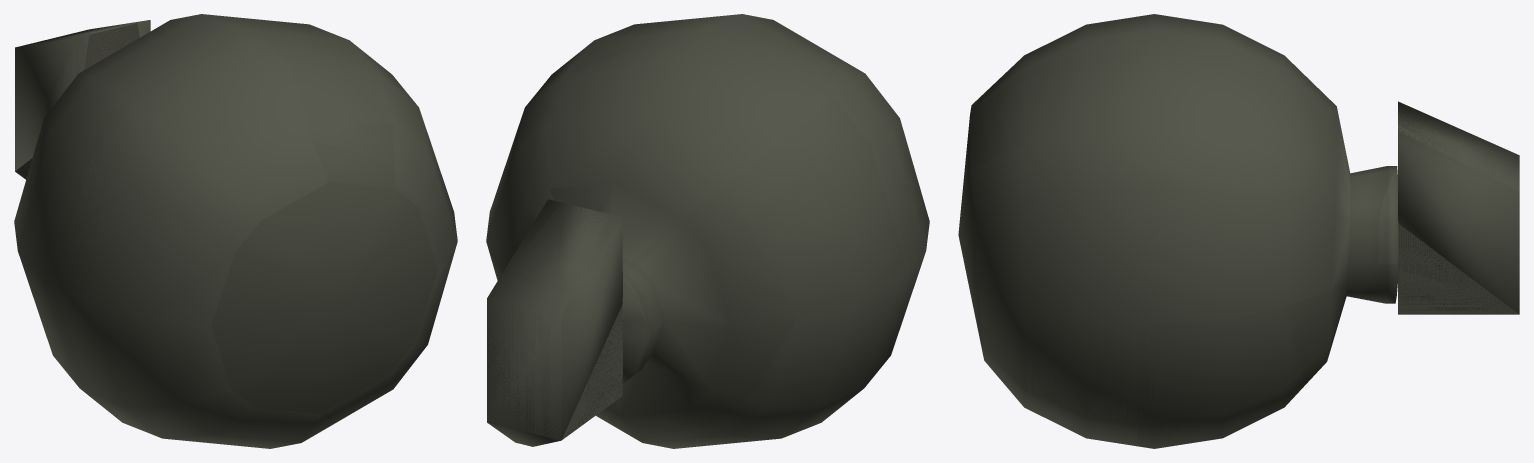
The model's file is projectile_m67fraggrenade.glb.
The picture shows the model from 3 angles, left to right: view 1: azimuth 30°, elevation 25°; view 2: azimuth 150°, elevation 25°; view 3: azimuth 270°, elevation 25°; orthographic projection.
Parts seen in each view (by area): view 1: projectile_m67fraggrenade; view 2: projectile_m67fraggrenade; view 3: projectile_m67fraggrenade.
Boxes of the visible parts, x1,y1,x2,y2 form: projectile_m67fraggrenade: (14, 14, 457, 448); projectile_m67fraggrenade: (486, 14, 929, 448); projectile_m67fraggrenade: (958, 14, 1519, 448).
Size of the model in its own units: 0.0751 by 0.0751 by 0.0951.
1 material, 1 textured.
